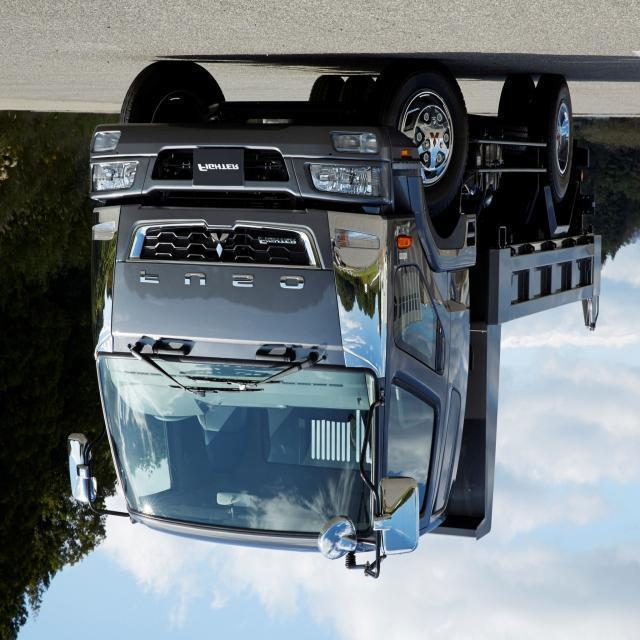Truck: (57, 59, 605, 577)
